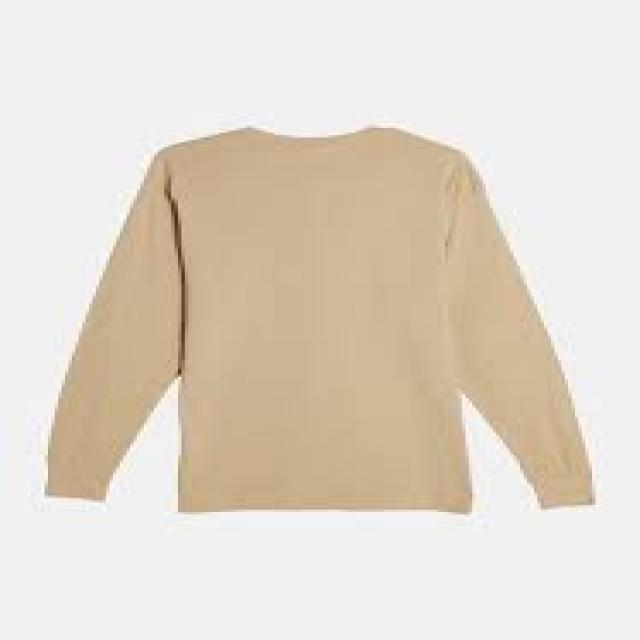plain: (35, 114, 607, 512)
